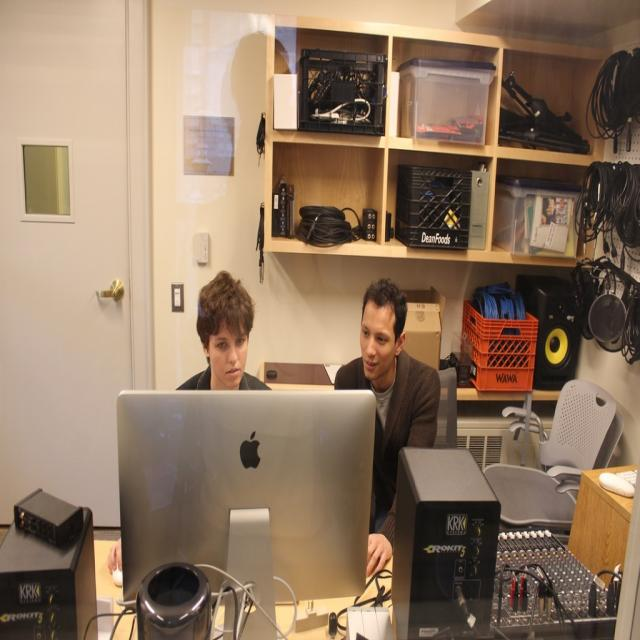chair: (488, 377, 624, 528)
desk: (91, 539, 396, 640)
keyboard: (495, 528, 607, 620)
laptop: (115, 386, 379, 615)
person: (334, 276, 440, 562), (175, 269, 272, 391)
